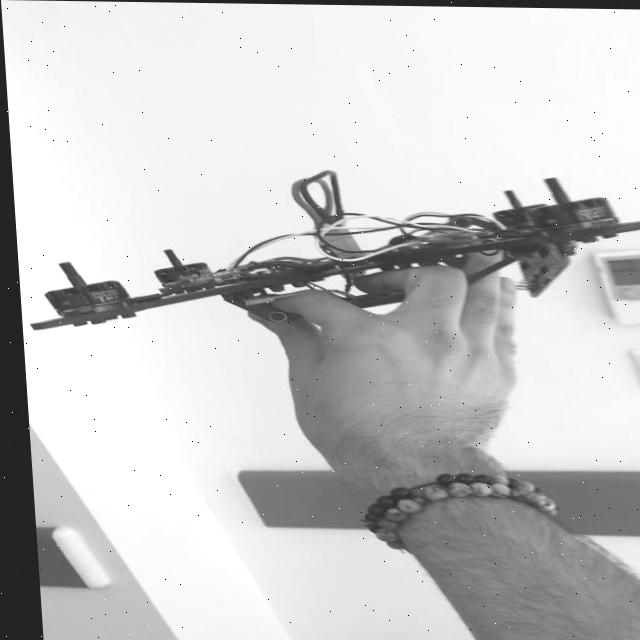drone: (15, 178, 640, 342)
